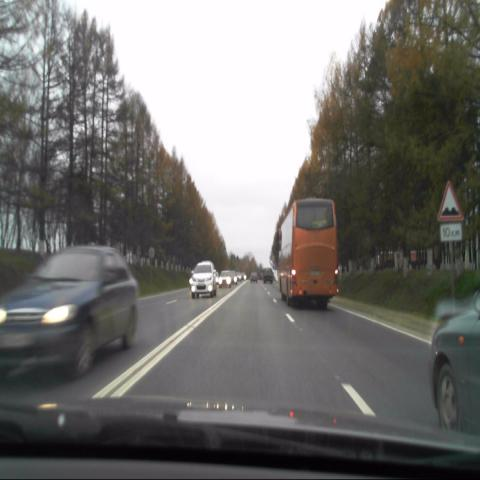8_1_1: (438, 224, 462, 242)
